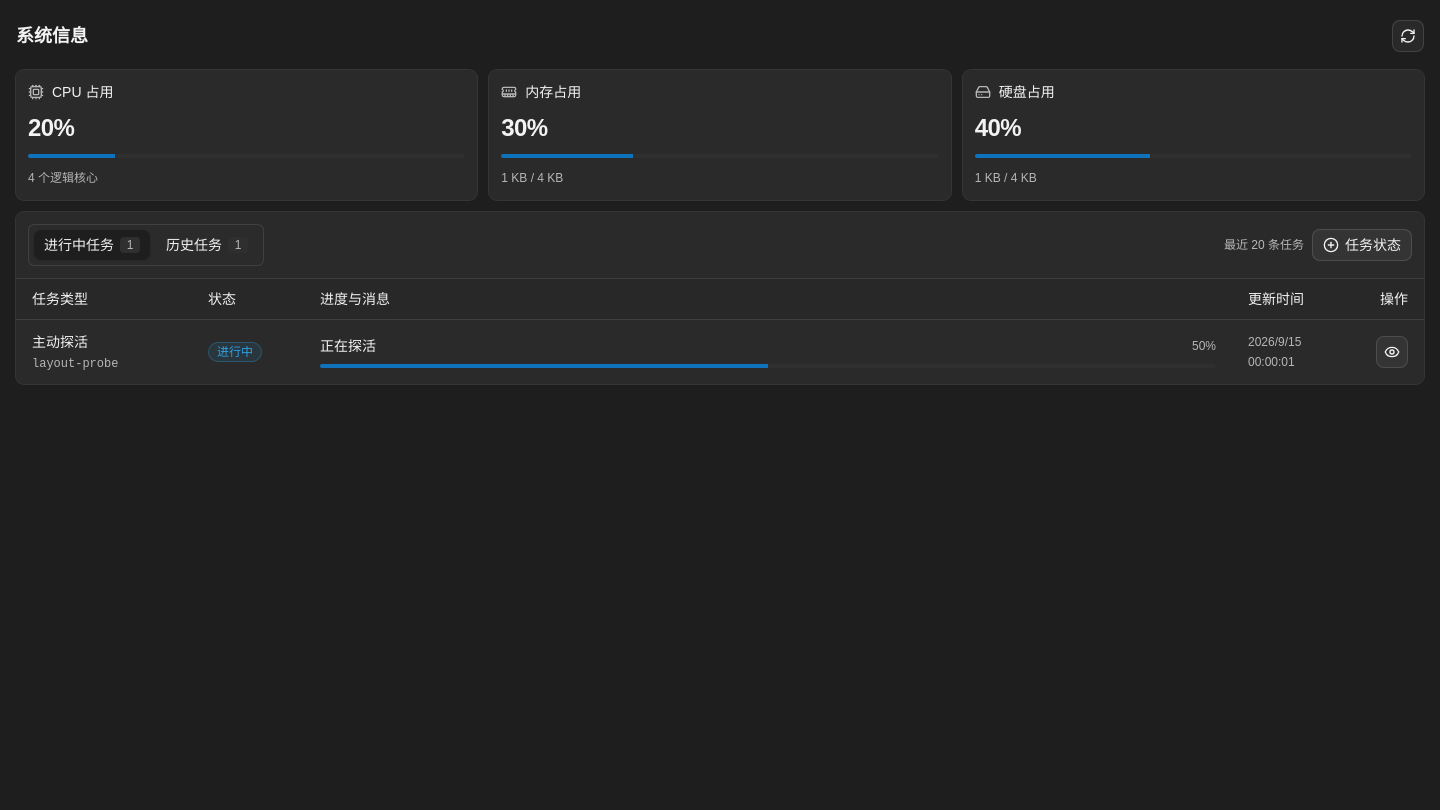
Test case: 键盘切换任务分类时激活对应面板并清除上一分类的状态筛选
Click the button with aria-label "任务状态筛选" at (1362, 245), box [1312,229,1412,261]
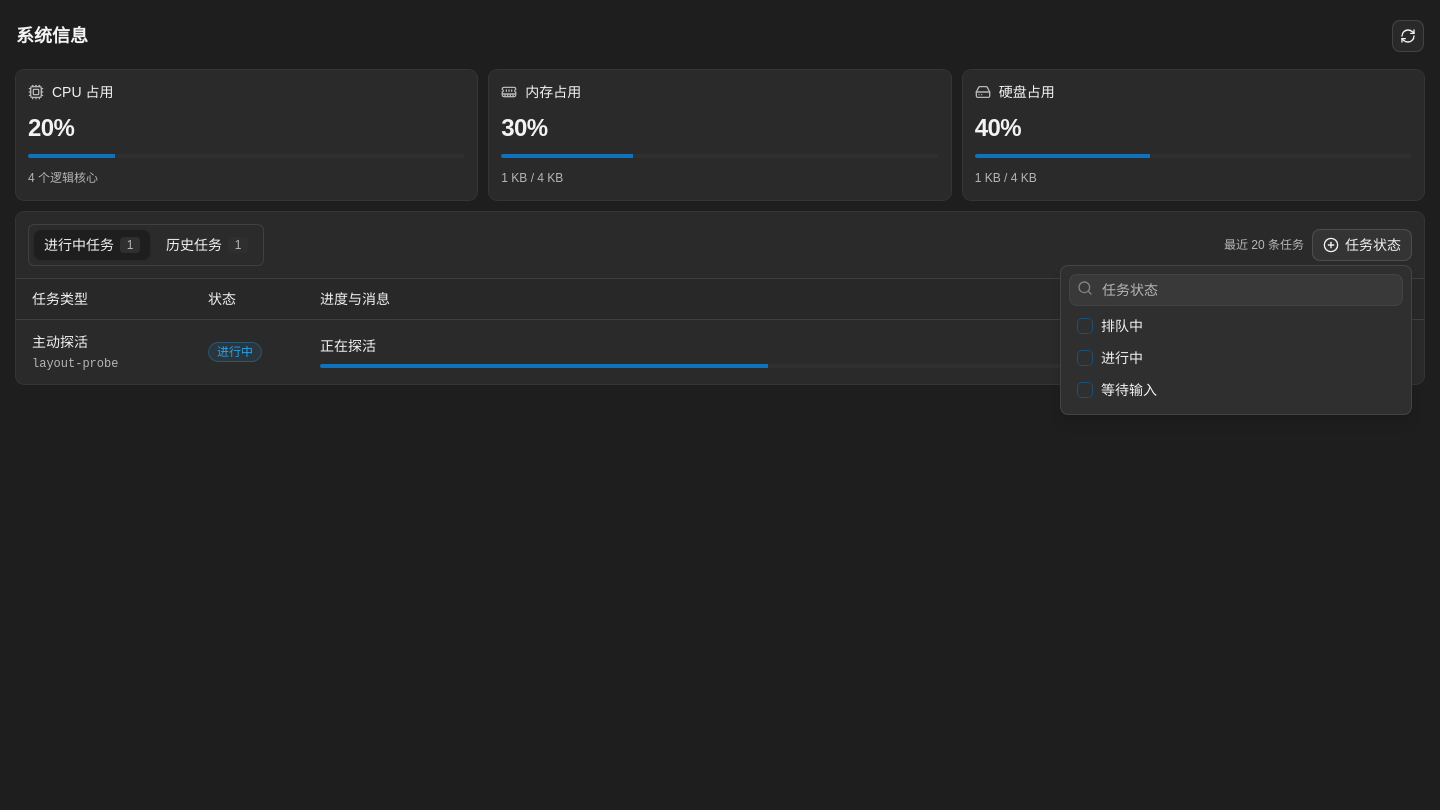
Click the option "排队中" at (1122, 326), box [1069,310,1403,342]
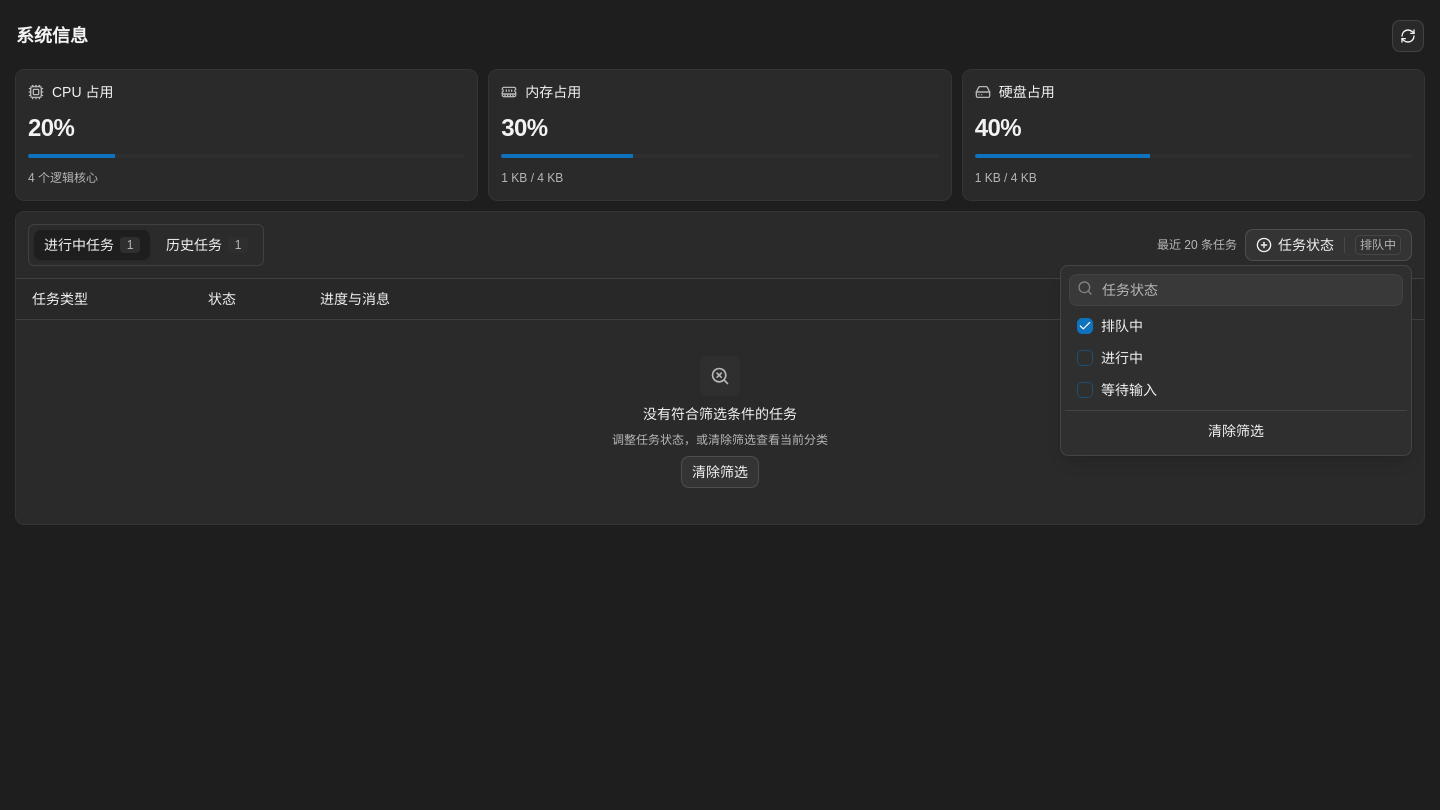
Press Escape
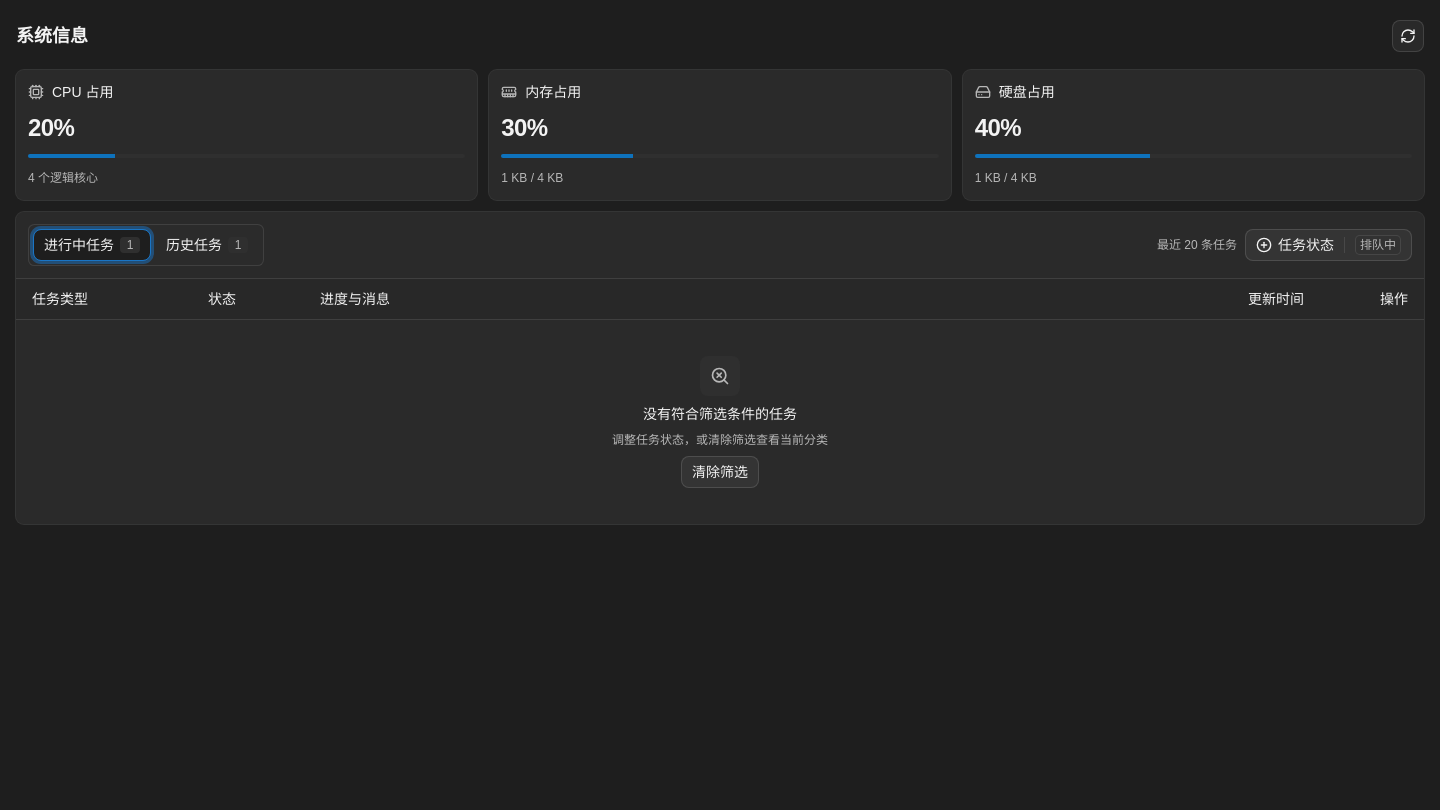
Press Arrowright
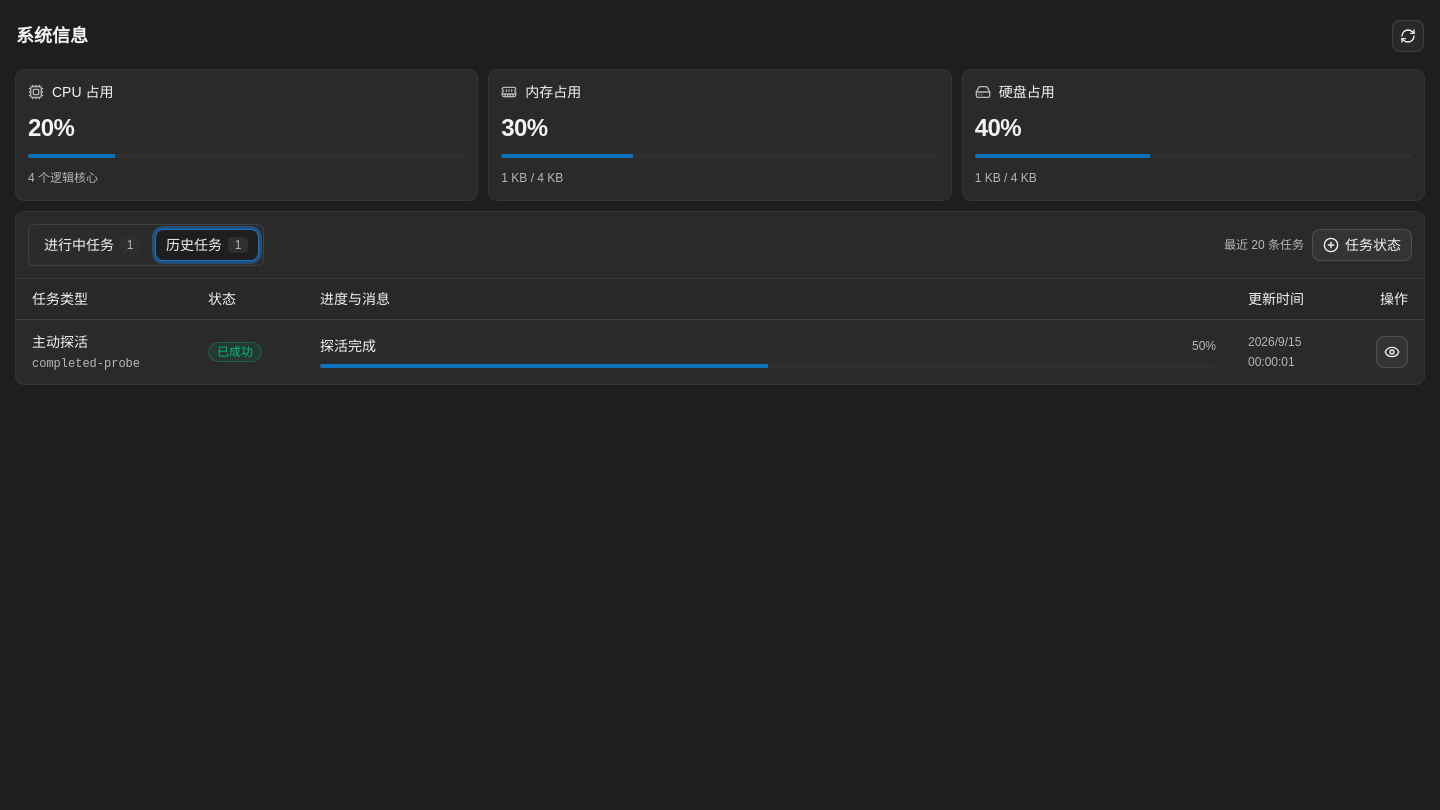
Result: the text "探活完成" is shown at [320,338,376,354]
Result: the button with aria-label "任务状态筛选" no longer shows "排队中" at [1312,229,1412,261]
